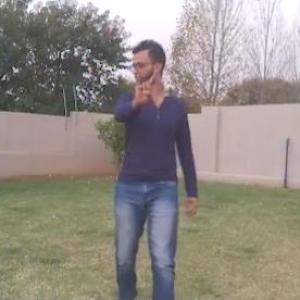takeoff-hand: (128, 62, 157, 109)
